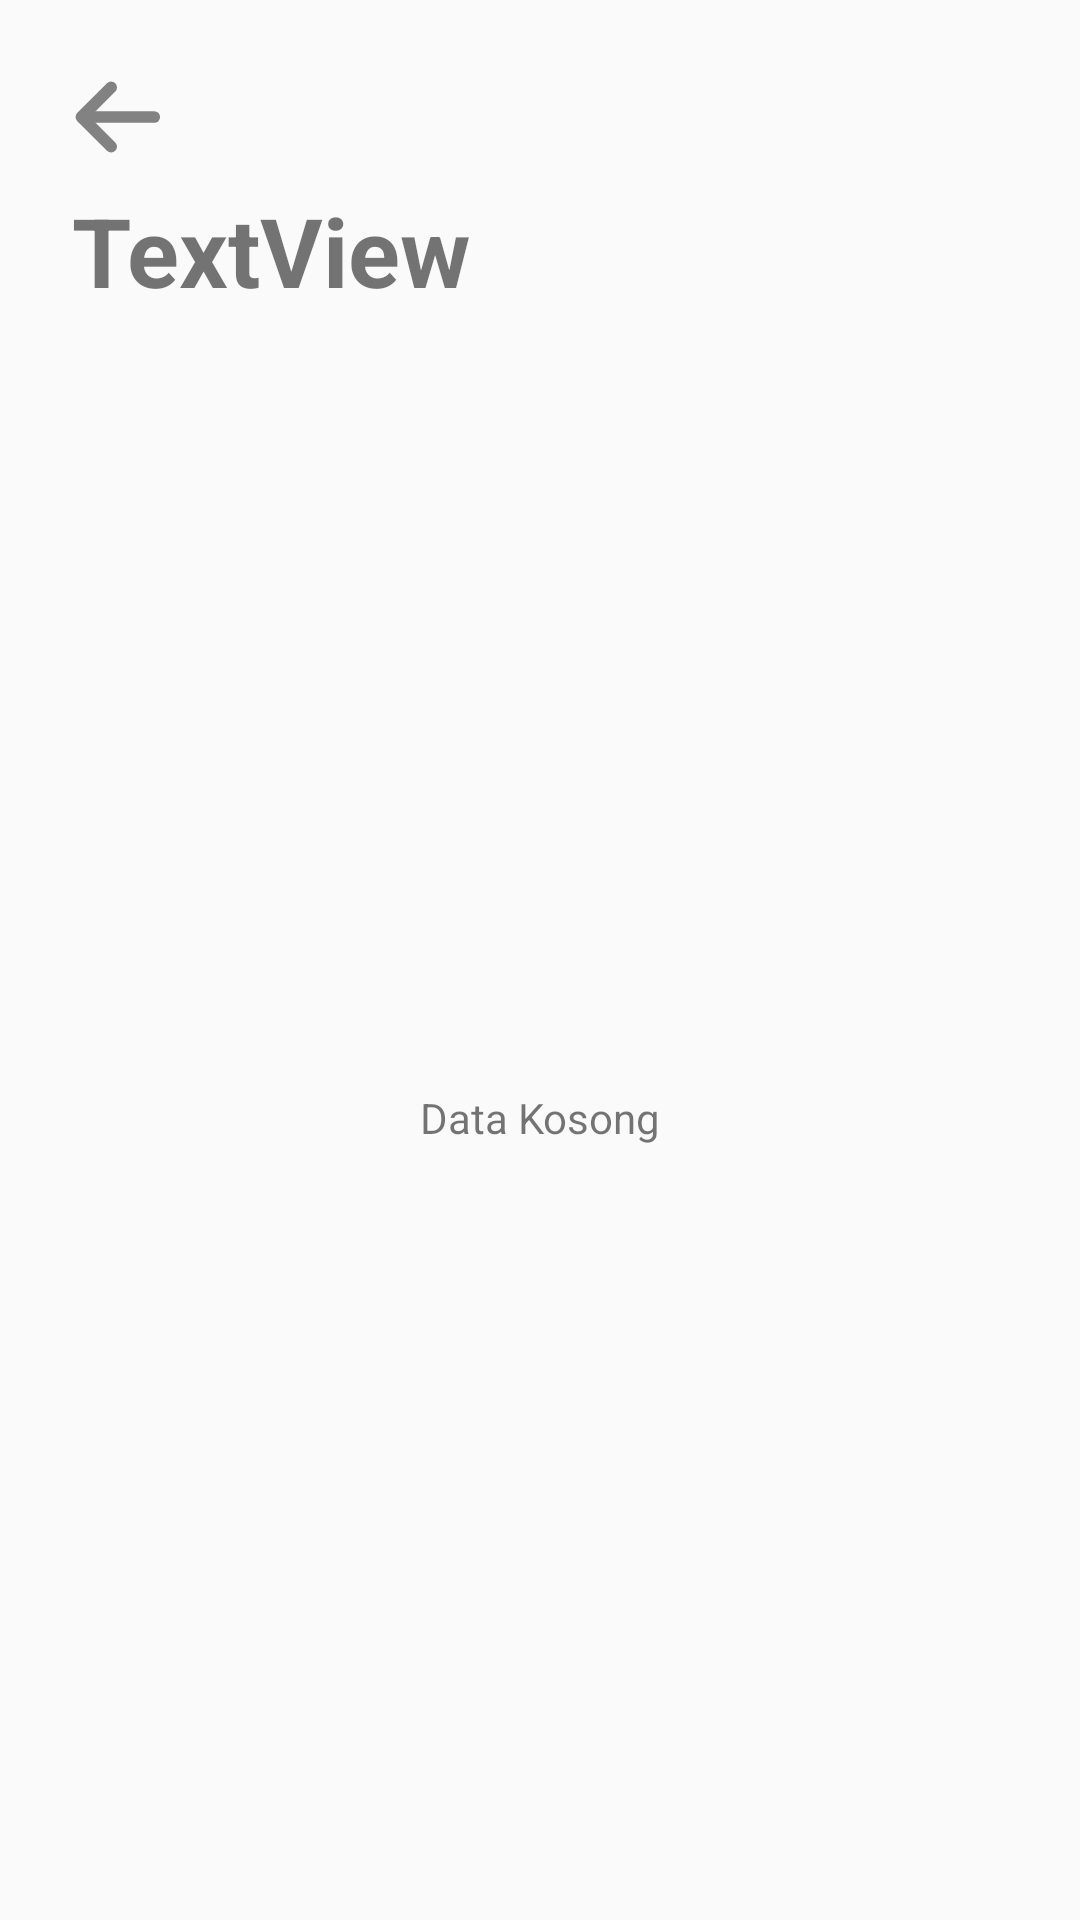

Screen size 1080w x 1920h. Icon name, then its center in pixels as point (x, y):
back: point (117, 117)
